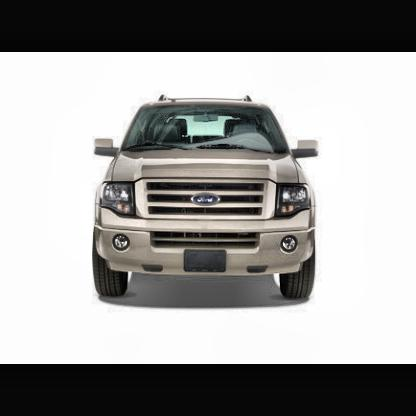Ford Expedition EL SUV 2009: (88, 93, 327, 306)
